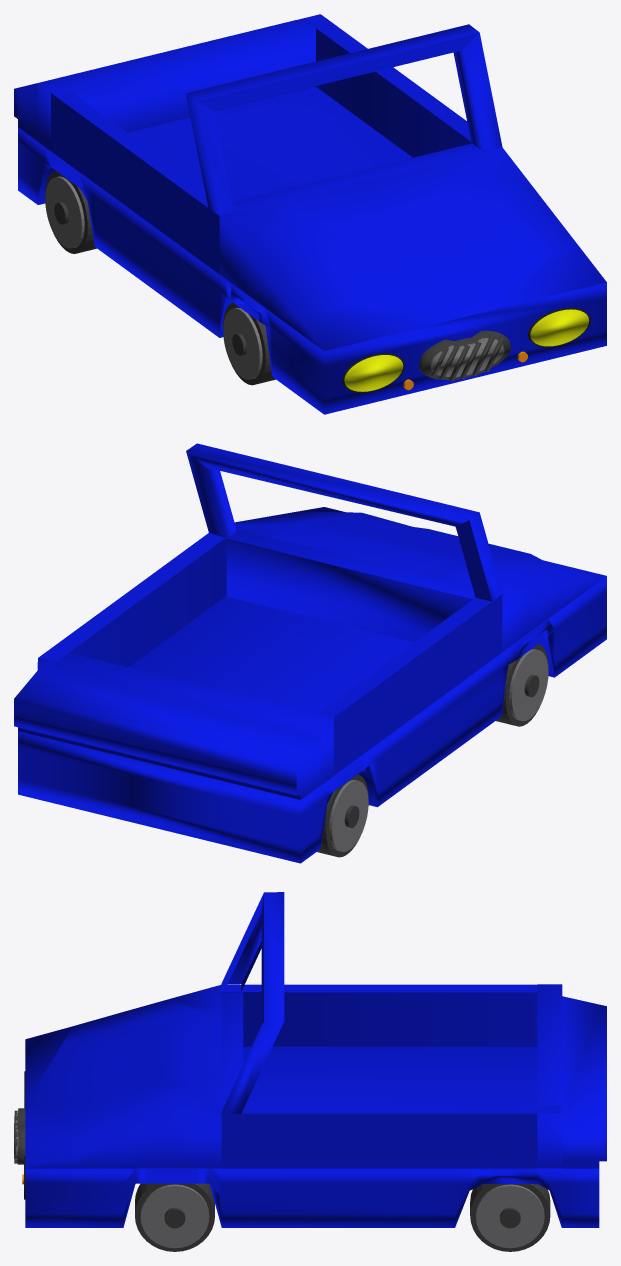
File: Обычная машина 1.1.fbx
3 views of the same model, one above another, from view 1: azimuth 30°, elevation 25°; view 2: azimuth 150°, elevation 25°; view 3: azimuth 270°, elevation 25° (orthographic). The views are drawn at different scales.
Parts seen in each view (by area): view 1: Cube; view 2: Cube; view 3: Cube.
Boxes of the visible parts, left/top/right/bottom form: Cube: left=14, top=14, right=606, bottom=414; Cube: left=14, top=443, right=606, bottom=863; Cube: left=14, top=892, right=606, bottom=1251.
Bounding box in the file's own units: 203 × 161 × 376.
